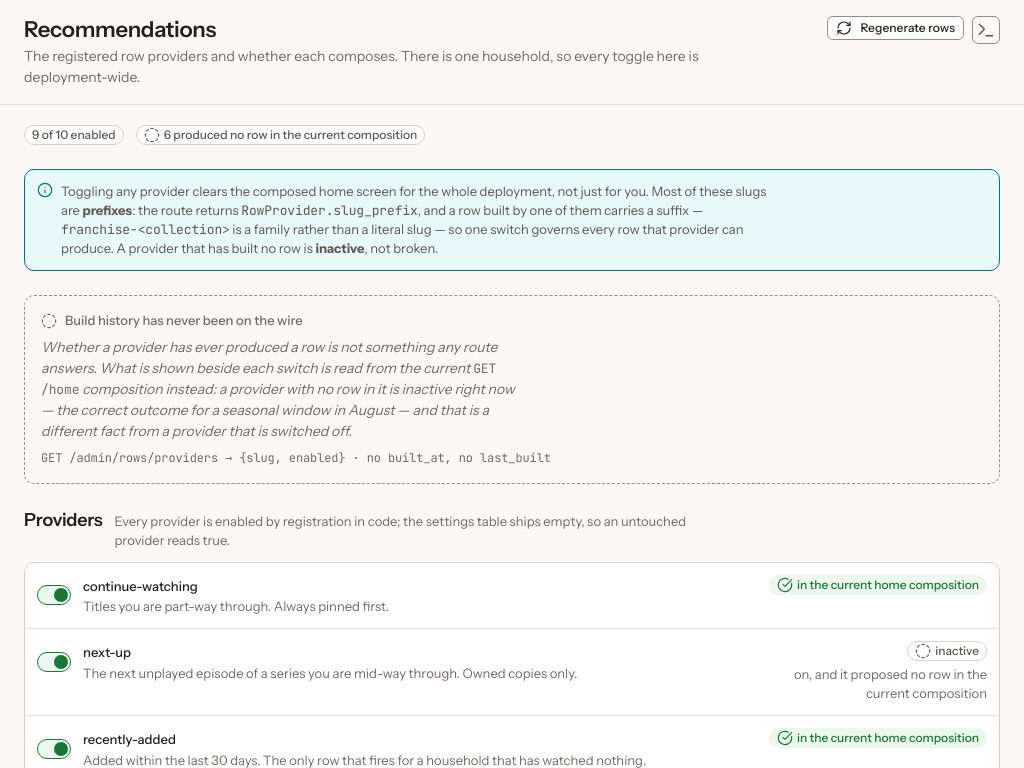
Test: Rows › regeneration › names the deployment-wide consequence before the click, and says what is unmeasured
The width and height of the screenshot is (1024, 768).
Click the button "Regenerate rows" at (896, 28), box [828,16,964,40]
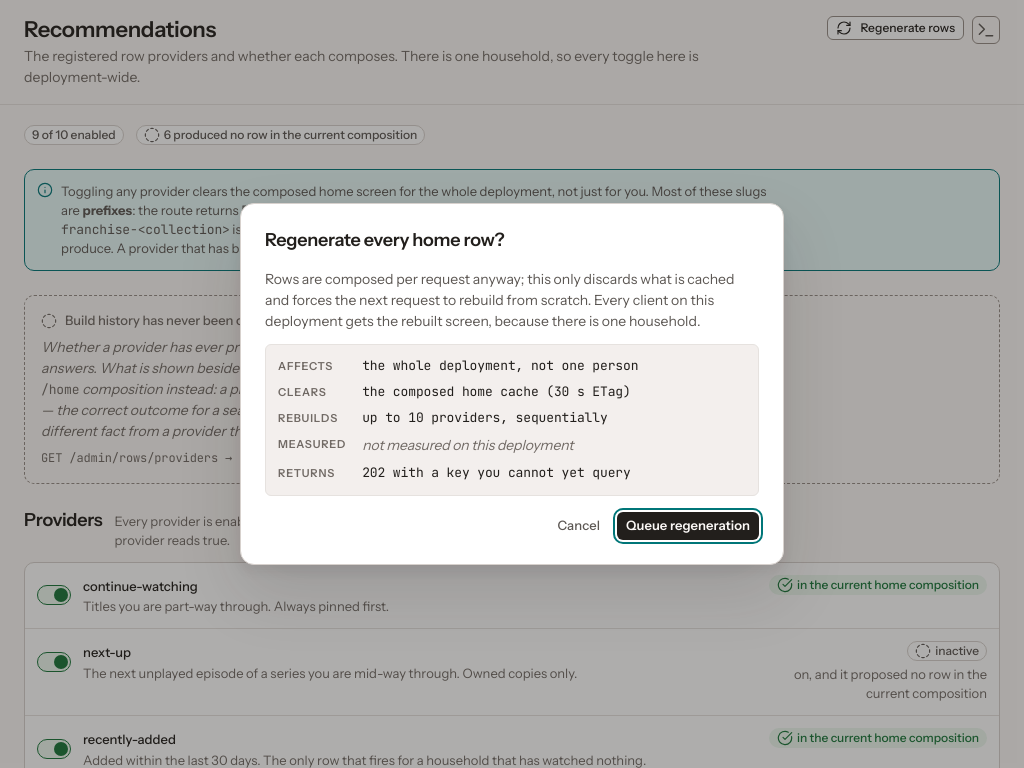
Check: the heading "Regenerate every home row?" is shown, box [265,230,505,252]
Check: the text "the whole deployment, not one person" is shown, box [362,357,638,374]
Check: the text "the composed home cache (30 s ETag)" is shown, box [362,383,631,400]
